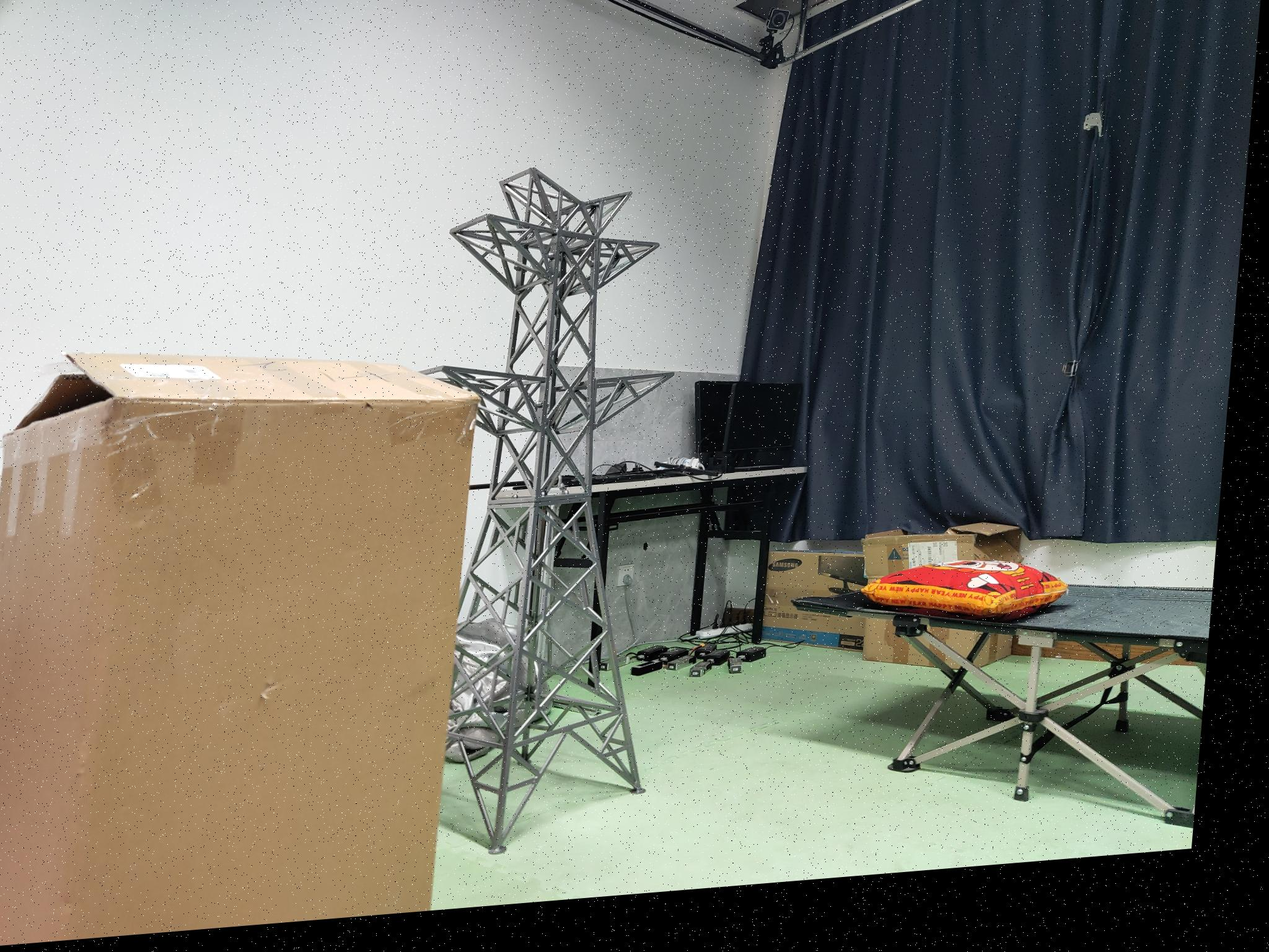tower: (440, 141, 702, 850)
